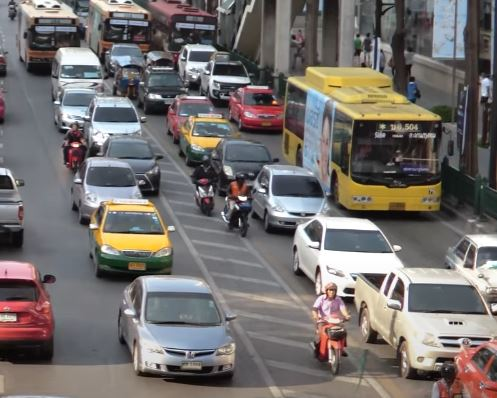Bus: (282, 66, 441, 213), (16, 1, 82, 71), (147, 1, 219, 63), (86, 1, 149, 58), (49, 47, 104, 97)
Car: (354, 267, 497, 380), (115, 272, 238, 380), (292, 214, 406, 301), (88, 197, 177, 277), (251, 162, 332, 231), (69, 158, 144, 223), (99, 135, 163, 199), (209, 136, 275, 193), (85, 96, 147, 147), (180, 112, 236, 166), (228, 85, 288, 134), (166, 94, 216, 140), (139, 66, 188, 112), (53, 88, 100, 134), (202, 60, 253, 102), (177, 44, 221, 84), (105, 43, 145, 74)
Motorcycle: (310, 282, 353, 376), (221, 173, 254, 236), (190, 155, 219, 216), (60, 121, 88, 177)
TukTuk: (112, 64, 143, 99)
